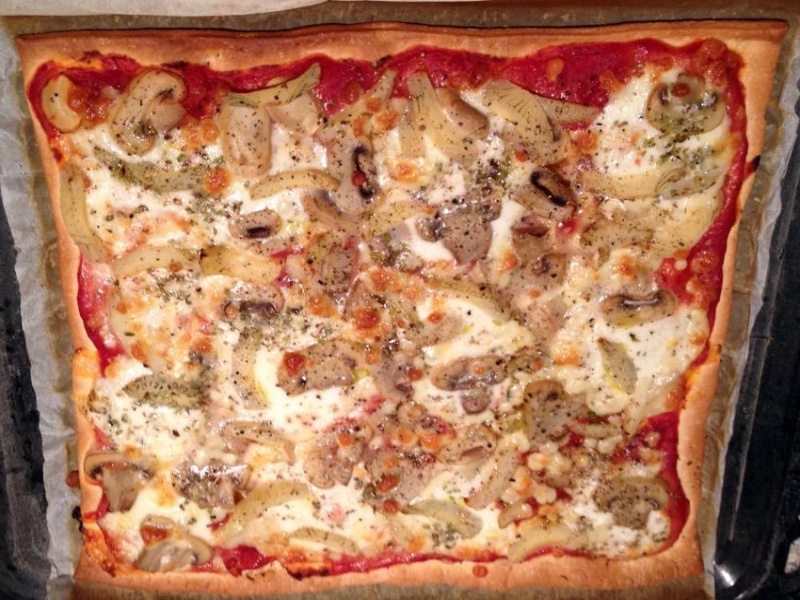champignon: (100, 66, 200, 159), (640, 70, 730, 141), (585, 475, 674, 540), (598, 285, 689, 334)
